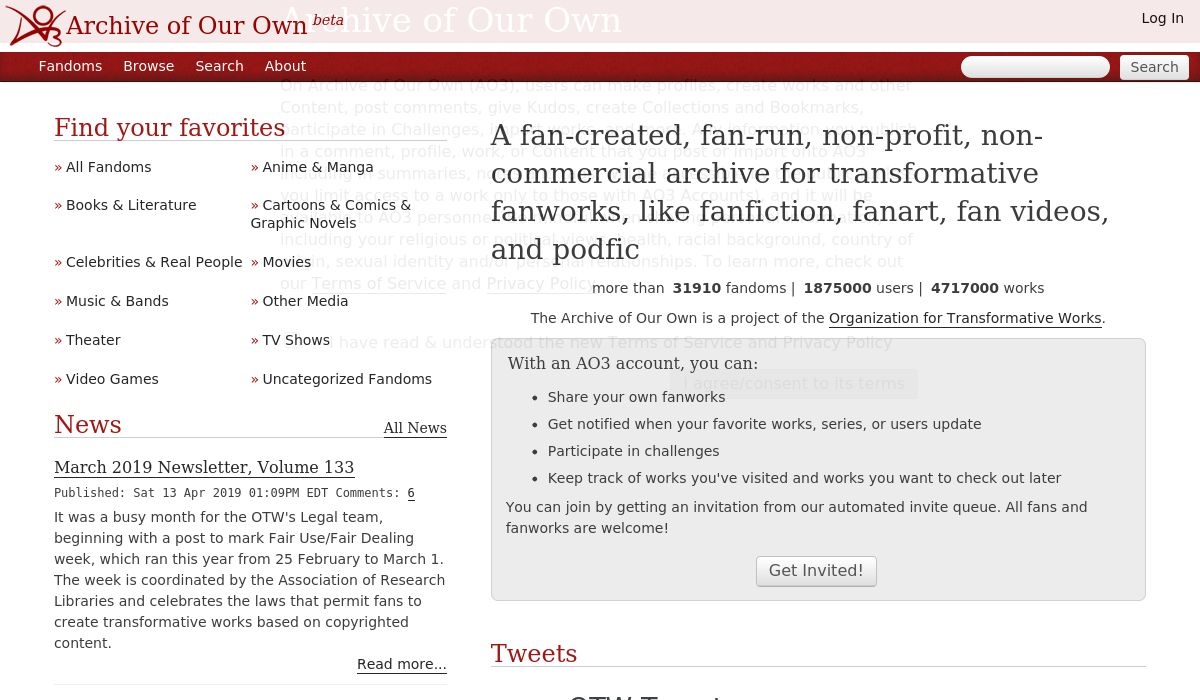menu: (1, 53, 1200, 81)
menu-button: (37, 57, 105, 74), (120, 57, 178, 73), (191, 58, 249, 74), (261, 57, 310, 73)
menu-search: (958, 53, 1191, 78)
